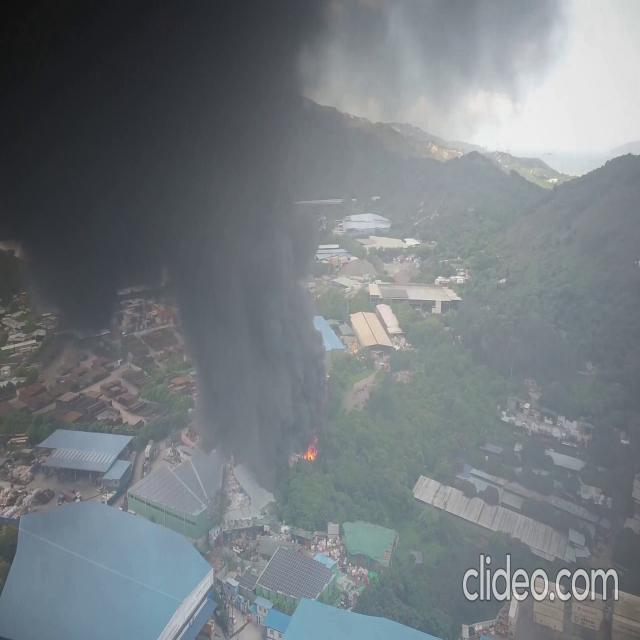Fire: (302, 435, 318, 465)
Smoke: (5, 0, 359, 538)
